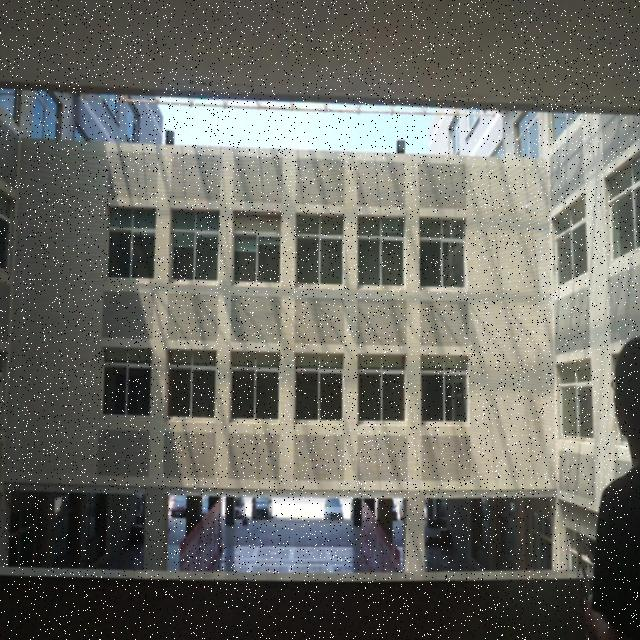UAV: (519, 200, 535, 214)
